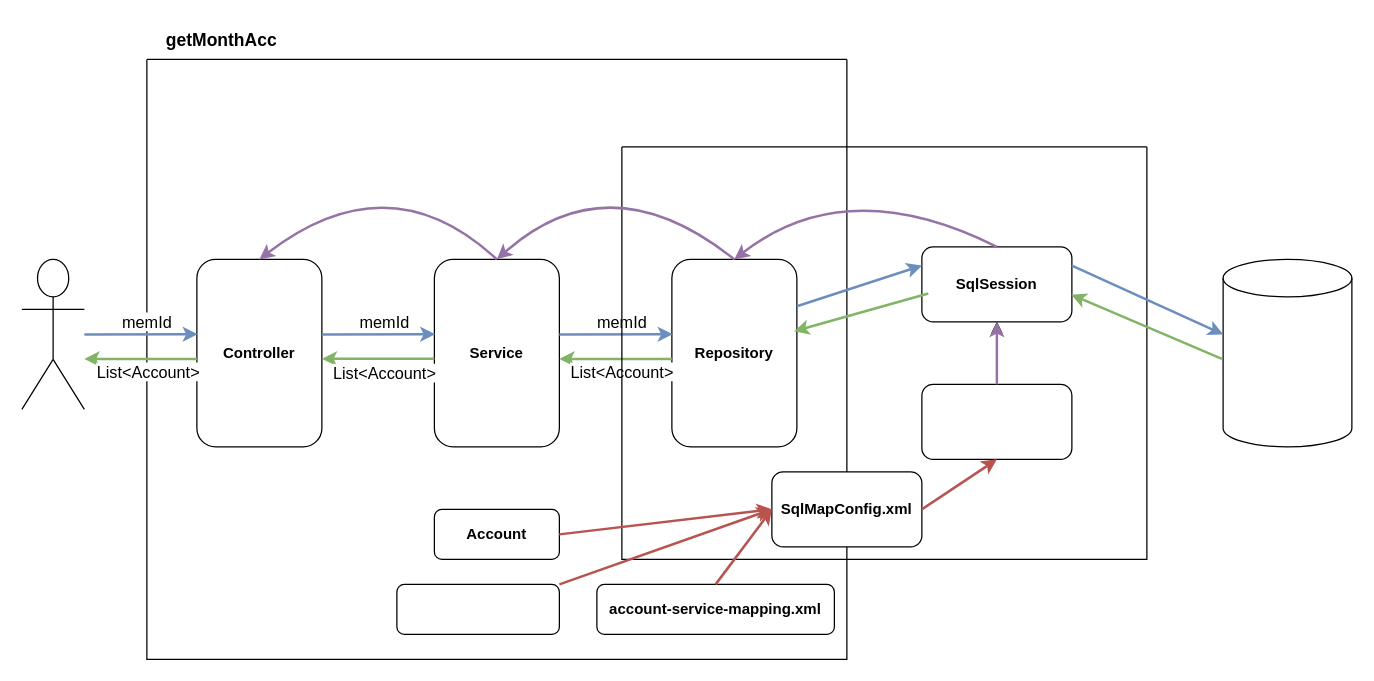
Image size: 1374x681. Some labels were removed from this diagram. The shapes that lost their labels are listed below. From the top down, each one's centre as x and y in pixels, then its label:
At pixel 52 333: "Client".
At pixel 996 421: "SqlSessionFactory".
At pixel 477 608: "dbconn.properties".
